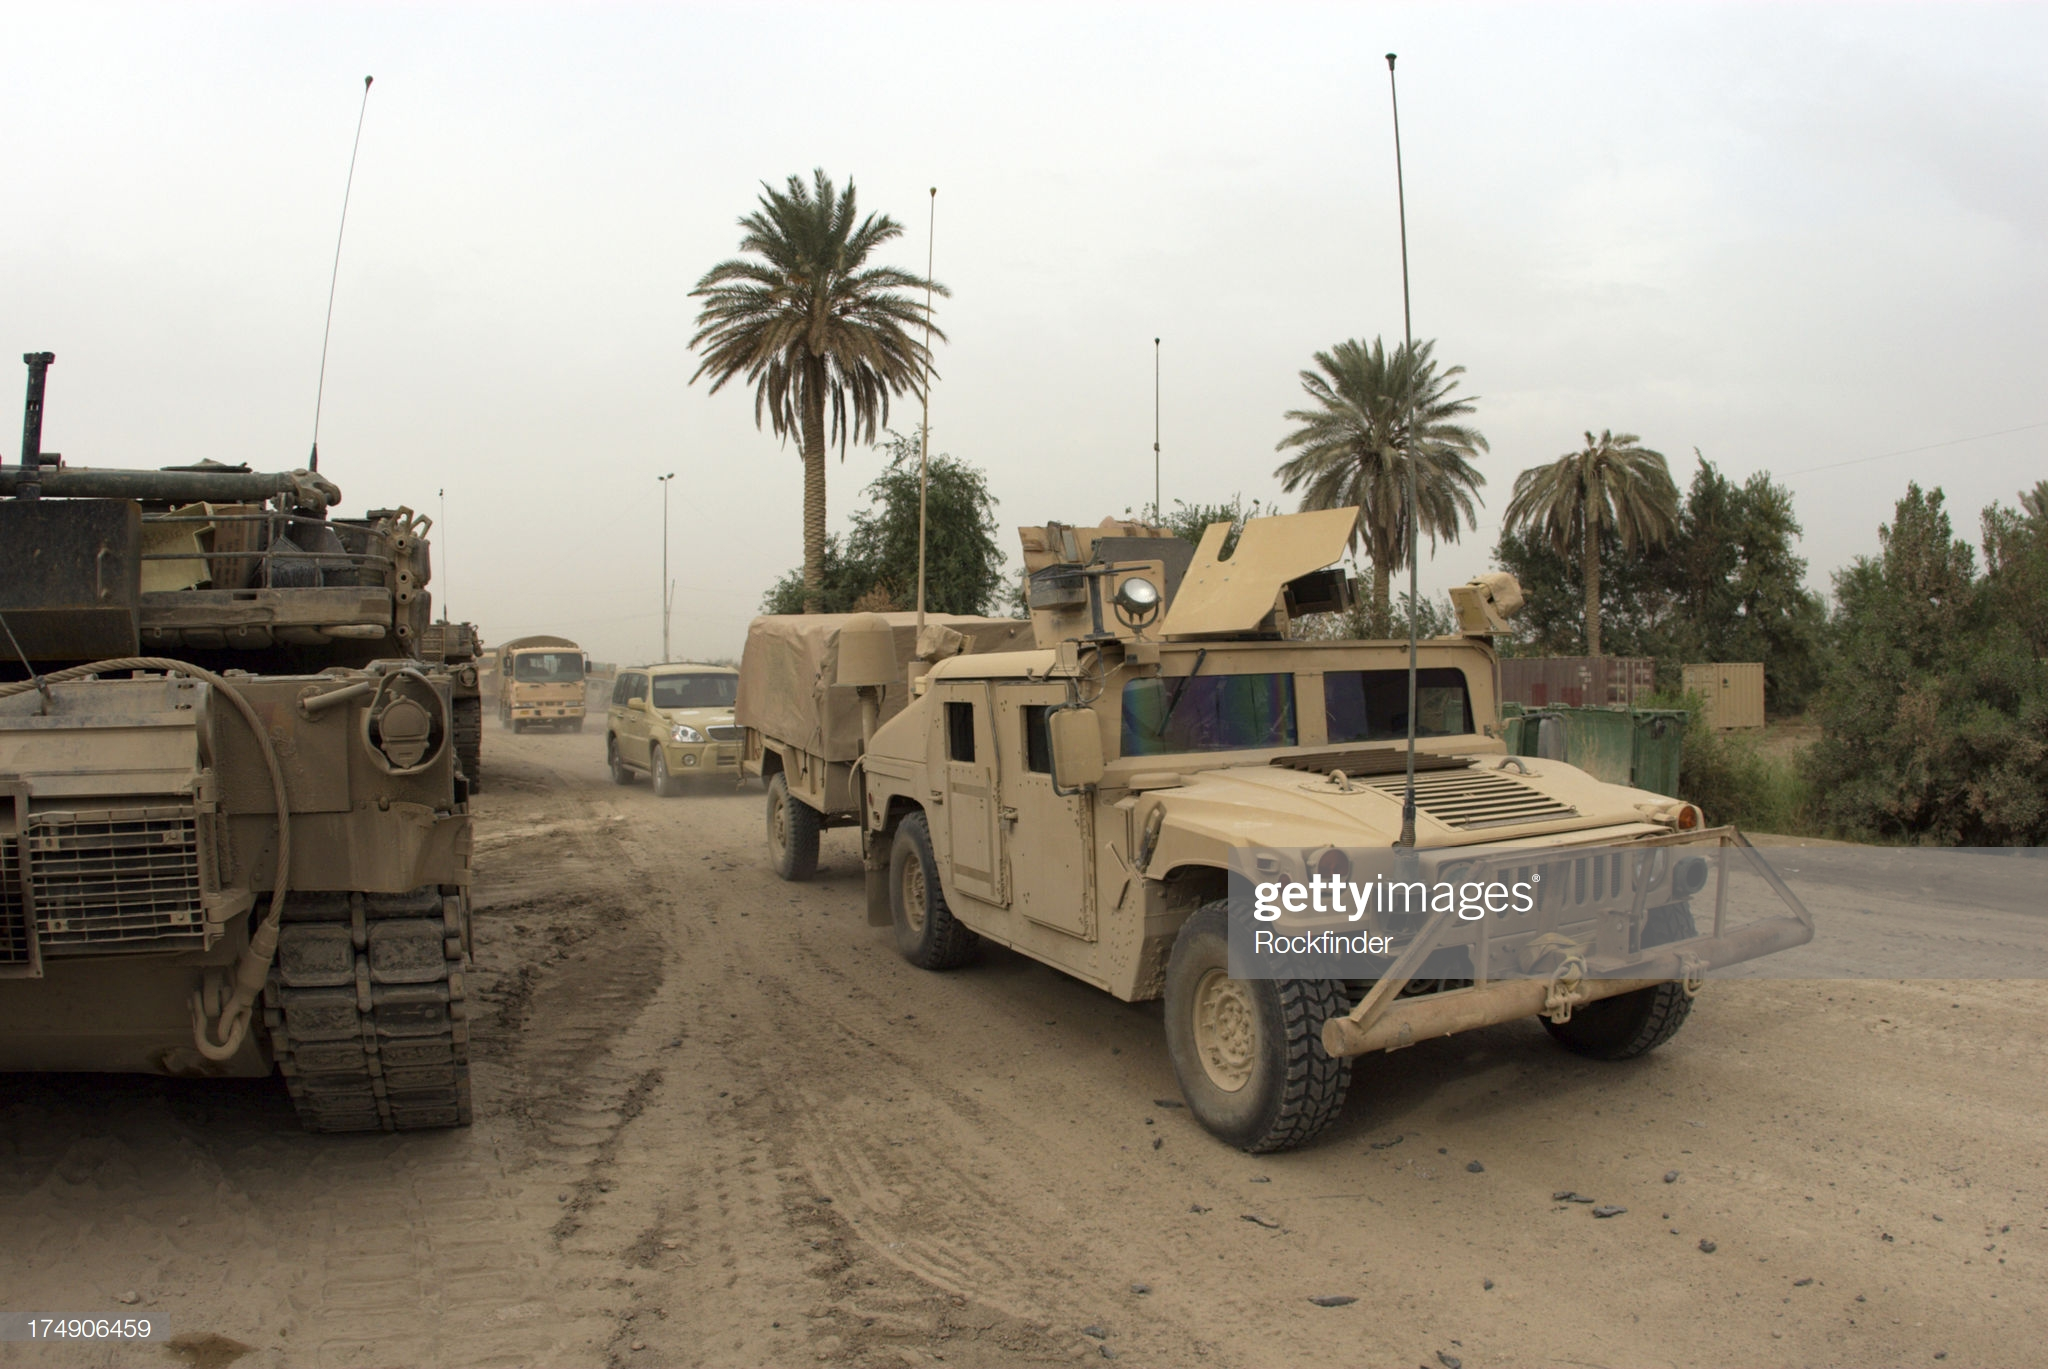hummer: (886, 629, 1710, 1115)
